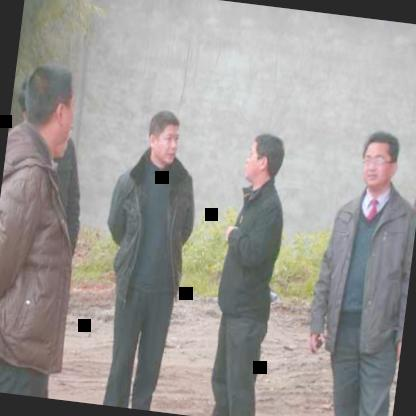head: (16, 55, 82, 156), (354, 124, 407, 195), (240, 125, 290, 191), (141, 104, 188, 170)
